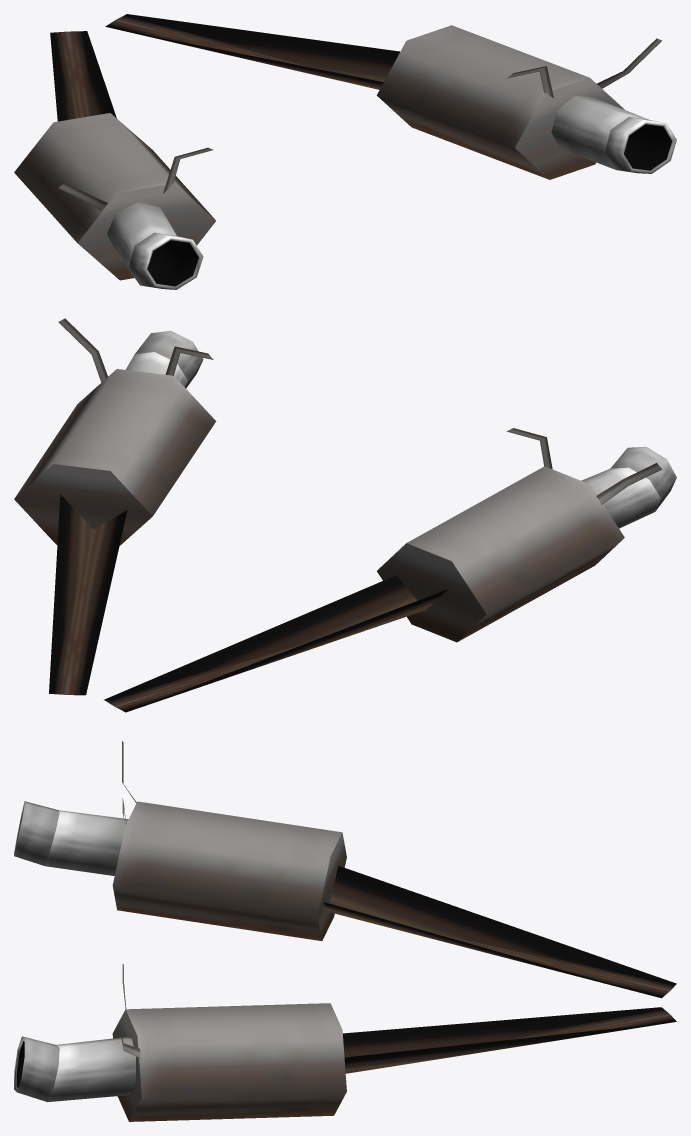
The model's file is exh_c_f.glb.
3 views of the same model, one above another, from view 1: azimuth 30°, elevation 25°; view 2: azimuth 150°, elevation 25°; view 3: azimuth 270°, elevation 25° (orthographic).
Visible parts, largest first — view 1: exh_c_f; view 2: exh_c_f; view 3: exh_c_f.
Part boxes in pixels (x1=…): exh_c_f: x1=14, y1=14, x2=676, y2=289; exh_c_f: x1=14, y1=318, x2=676, y2=712; exh_c_f: x1=14, y1=741, x2=676, y2=1121.
Size of the model in its own units: 1.41 by 0.2827 by 1.32.
Materials: 2 (1 with a texture image).
